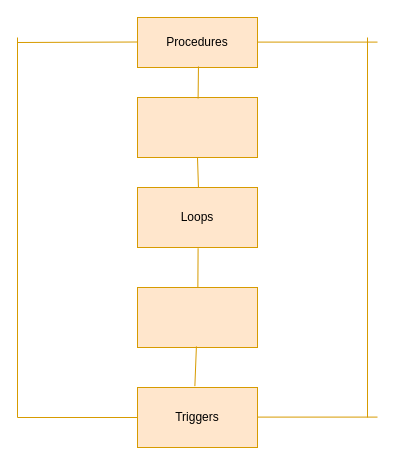
The diagram is 396 pixels wide and 465 high, and some of its shapes have lost their labels. Here are the shapes that lost their labels. From the top down, the centre of each, then its label:
At (x=197, y=127): "Functions".
At (x=197, y=317): "Variables".
